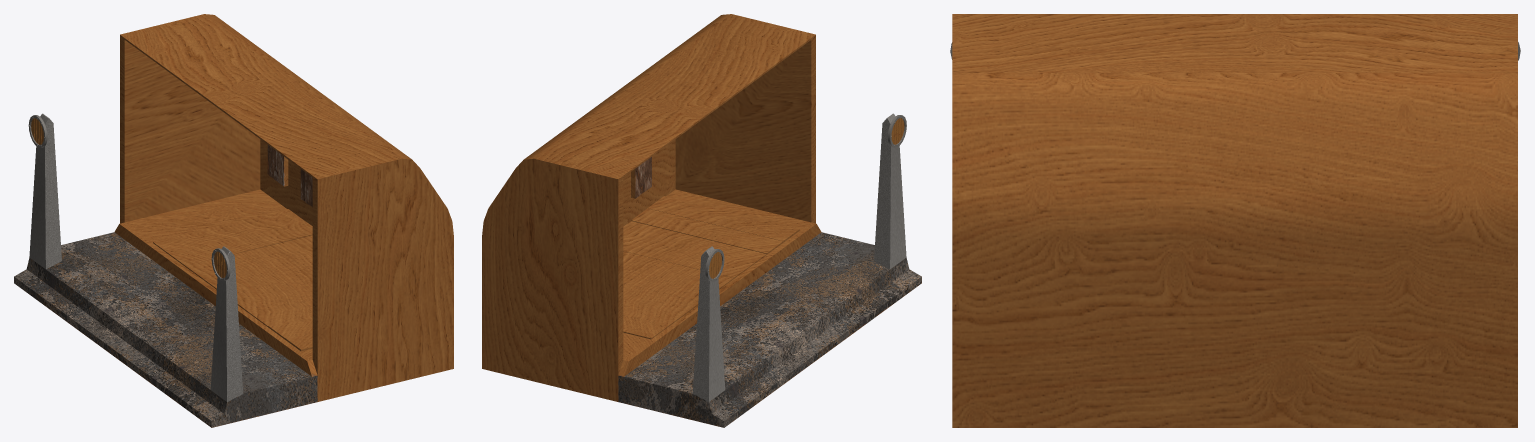
Rendered from Herreria.fbx.
3 views of the same model, side by side, from view 1: azimuth 30°, elevation 25°; view 2: azimuth 150°, elevation 25°; view 3: azimuth 270°, elevation 25° (orthographic). The views are drawn at different scales.
Visible parts, largest first — view 1: Herreria, Escudo Circular 4, Escudo Circular 3; view 2: Herreria, Escudo Circular 4, Escudo Circular 3; view 3: Herreria.
Part boxes in pixels (x1,y1,x2,y2): Herreria: (14,14,453,427); Escudo Circular 4: (28,115,47,147); Escudo Circular 3: (211,248,230,281); Herreria: (482,14,921,427); Escudo Circular 4: (705,249,724,281); Escudo Circular 3: (887,115,906,147); Herreria: (952,14,1517,427).
Bounding box in the file's own units: 14.15 × 12.44 × 20.17.
